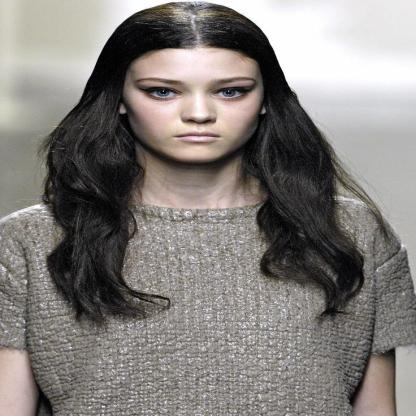long-hair: (34, 166, 354, 206)
